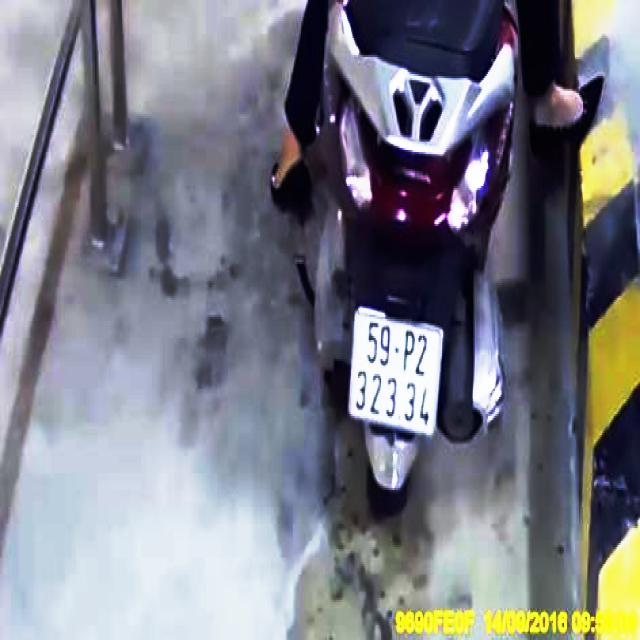license_plate: (348, 305, 447, 440)
